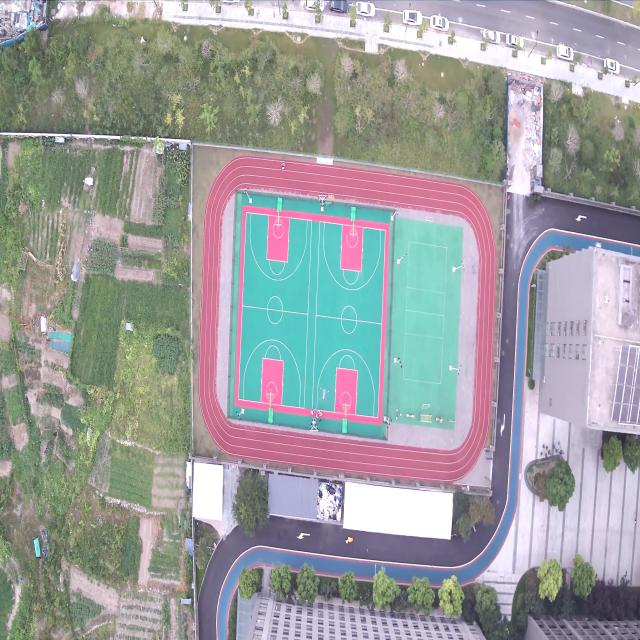drone: (319, 386, 329, 402)
